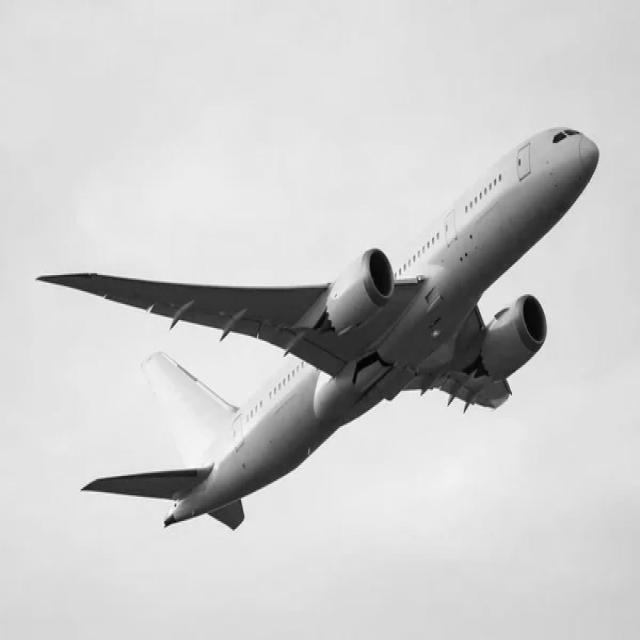Aircraft: (35, 109, 608, 533)
